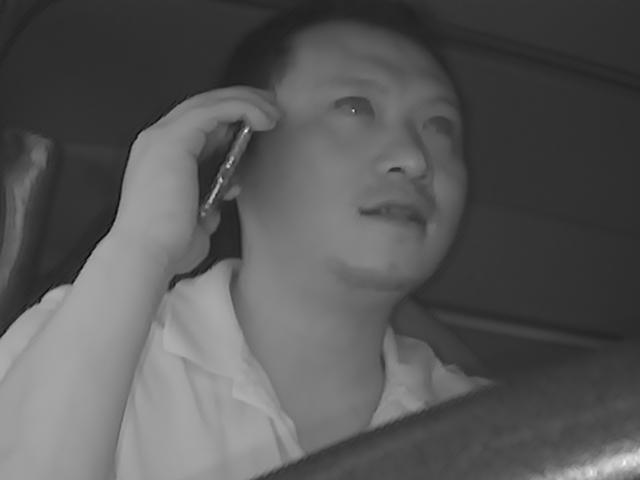hand: (105, 82, 244, 263)
